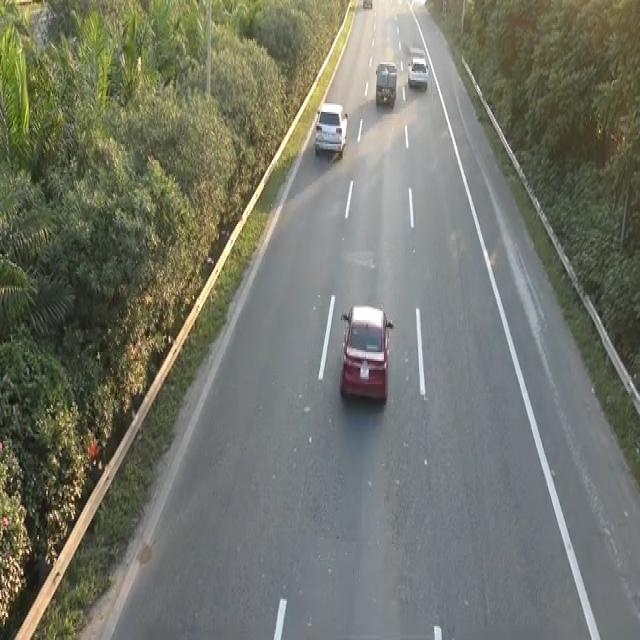bus: (336, 300, 395, 410)
car: (312, 98, 349, 160)
minivan: (374, 58, 397, 106)
